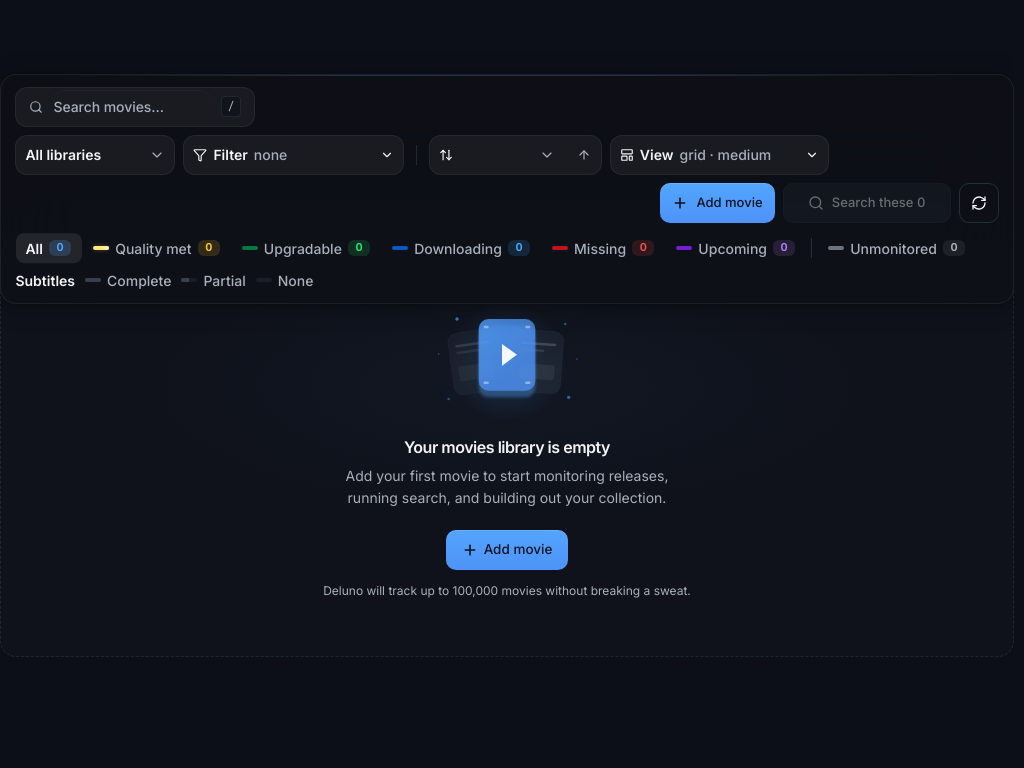
the title search in the Add dialog › asks again as the text changes, and the answer for the newest text replaces the older one
Expected: the button "Search these 0" is shown, [783, 183, 951, 223]
Click the 1st button "Add movie".
click(718, 203)  # box [660, 183, 775, 223]
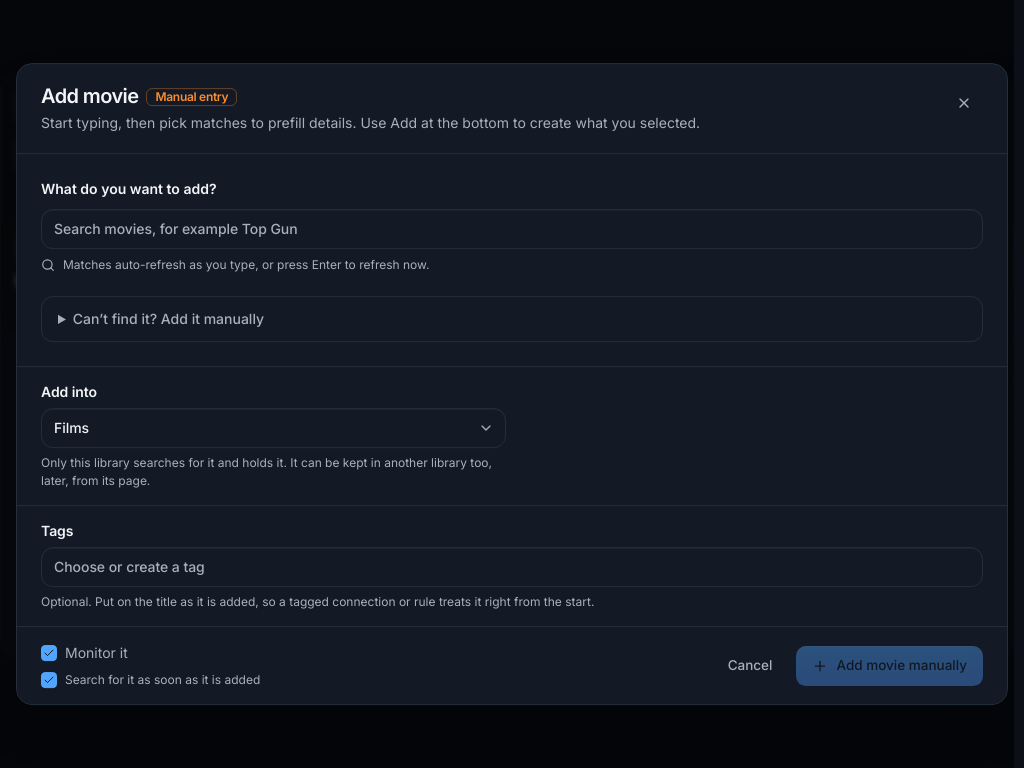
Type "Arr" into the field with placeholder "Search movies, for example Top Gun".
click(512, 229); type("Arr")  # box [41, 209, 983, 249]
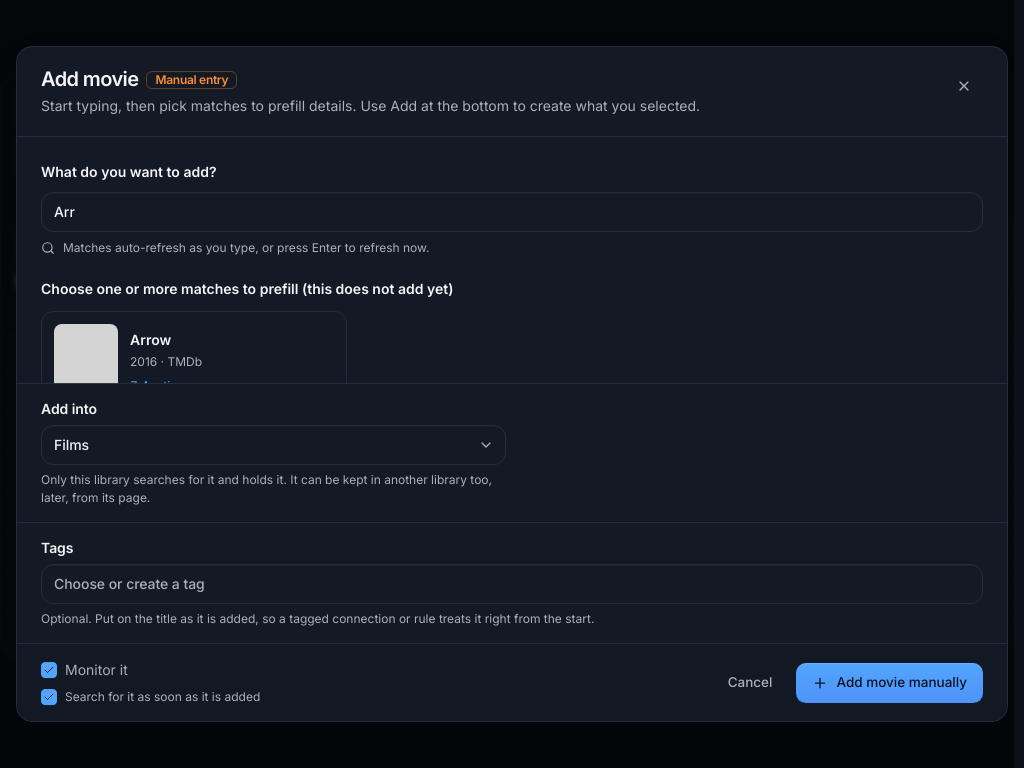
Expected: the text "Arrow" is shown, [130, 331, 171, 348]
Replace the text in the field with placeholder "Search movies, for example Top Gun" with "Arriv" at coordinates (512, 212), box [41, 192, 983, 232]
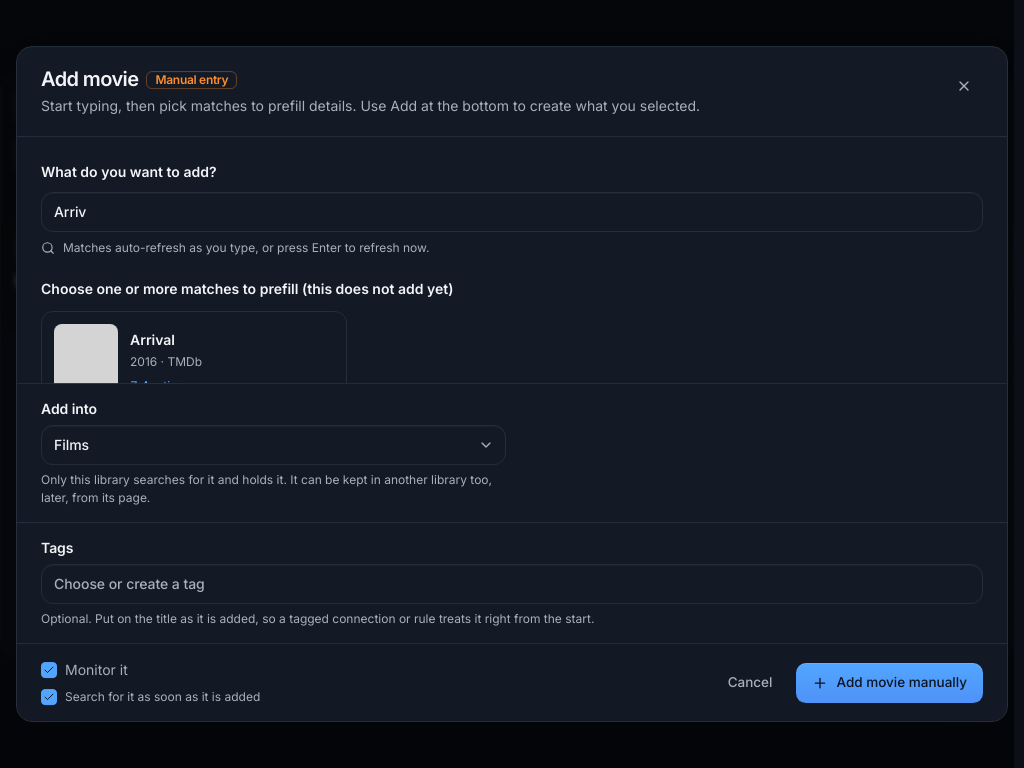
Expected: the text "Arrival" is shown, [130, 331, 175, 348]
Expected: the button "Arrow" is gone
